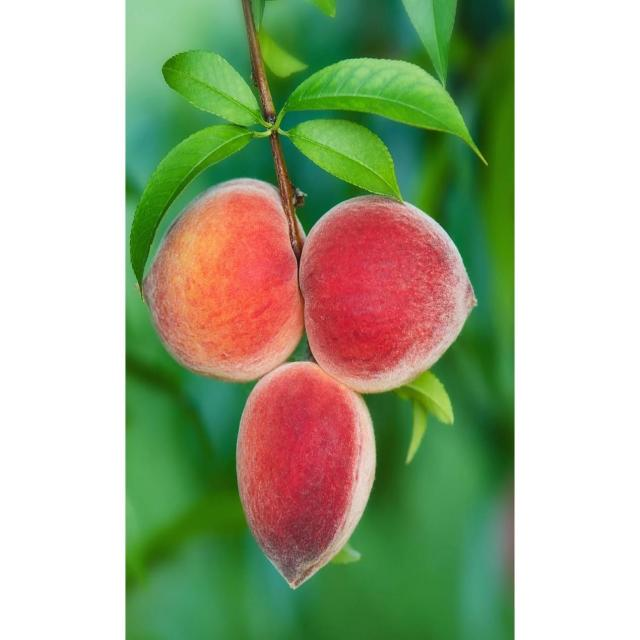peach: (300, 197, 481, 385), (142, 177, 302, 374), (238, 358, 370, 588)
